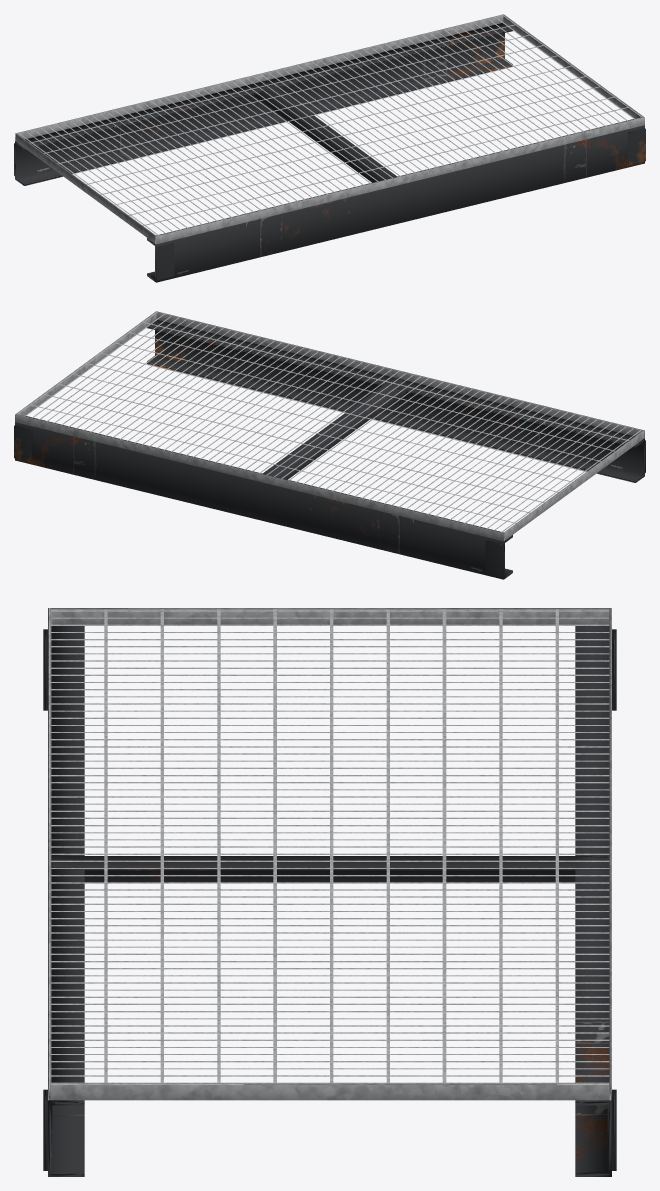
File: SM_IK_Catwalk_200_Rusty_LOD2.fbx
3 views of the same model, one above another, from view 1: azimuth 30°, elevation 25°; view 2: azimuth 150°, elevation 25°; view 3: azimuth 270°, elevation 25° (orthographic). The views are drawn at different scales.
Parts seen in each view (by area): view 1: SM_IK_Catwalk_200_Rusty_LOD2; view 2: SM_IK_Catwalk_200_Rusty_LOD2; view 3: SM_IK_Catwalk_200_Rusty_LOD2.
Part boxes in pixels (x1,y1,x2,y2): SM_IK_Catwalk_200_Rusty_LOD2: (14, 14, 645, 282); SM_IK_Catwalk_200_Rusty_LOD2: (14, 311, 645, 579); SM_IK_Catwalk_200_Rusty_LOD2: (43, 608, 616, 1176).
Bounding box in the file's own units: 200 × 102 × 18.
